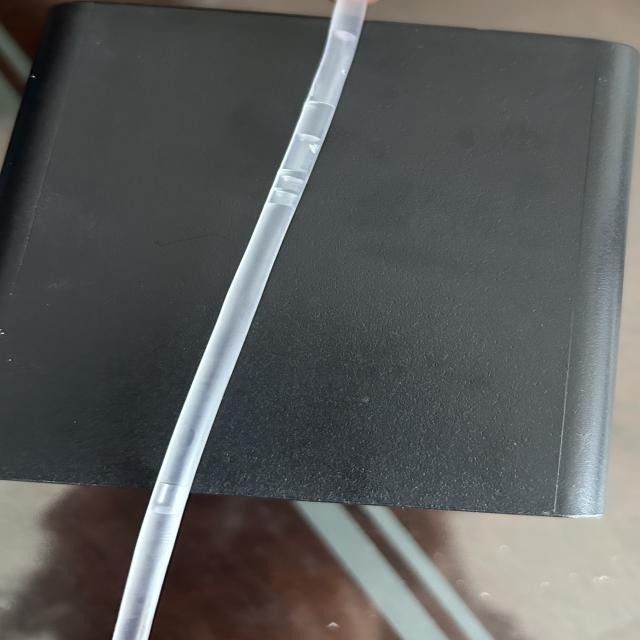bubble: (297, 94, 349, 141), (323, 4, 371, 44), (150, 482, 189, 513), (276, 172, 312, 192), (264, 188, 300, 205), (309, 143, 326, 156)
